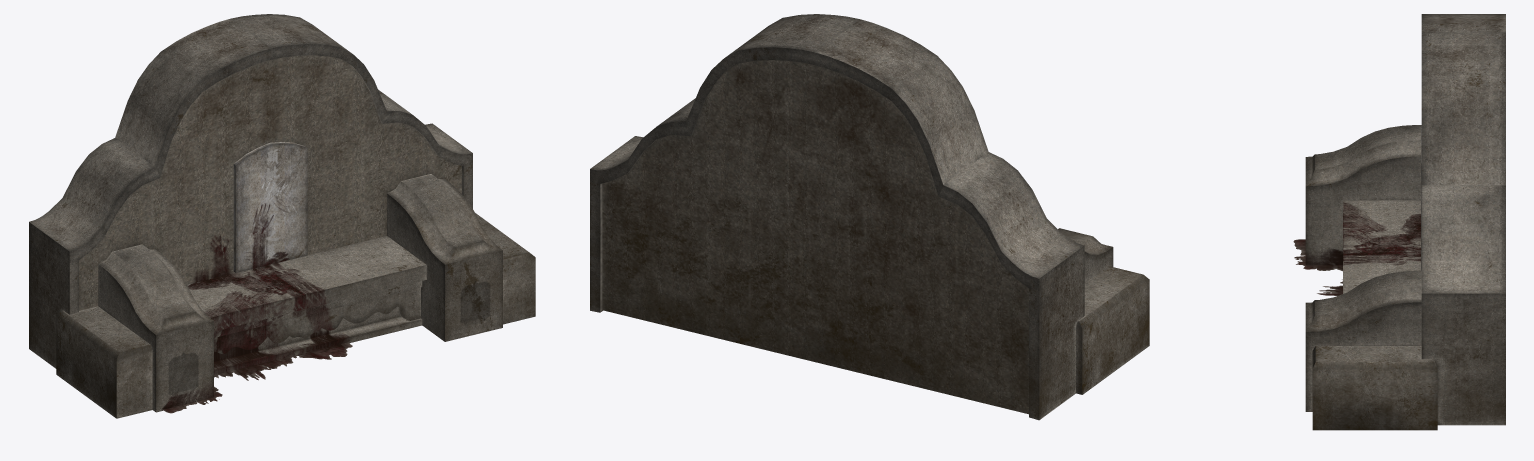
File: graveryard.fbx
3 renders of one model, left to right at view 1: azimuth 30°, elevation 25°; view 2: azimuth 150°, elevation 25°; view 3: azimuth 270°, elevation 25°, orthographic. The views are drawn at different scales.
Visible parts, largest first — view 1: graveryard; view 2: graveryard; view 3: graveryard.
Boxes of the visible parts, <box> form: graveryard: <box>29,14,535,418</box>; graveryard: <box>590,14,1149,420</box>; graveryard: <box>1293,14,1505,430</box>.
Size of the model in its own units: 316 by 214 by 205.
